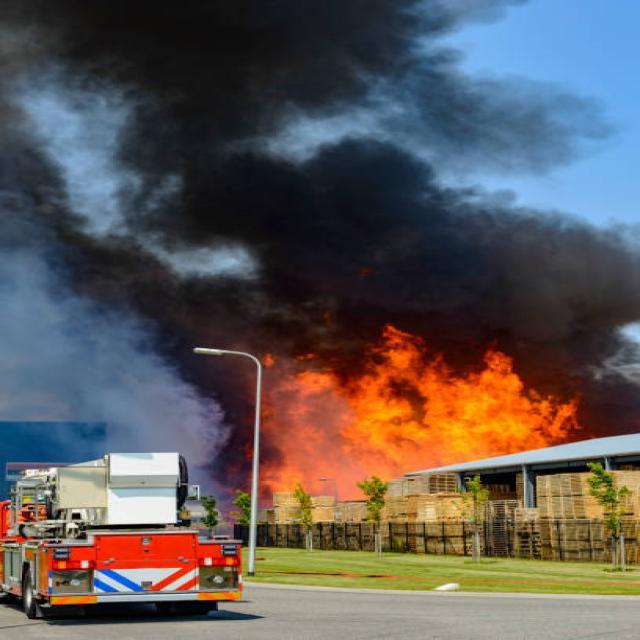Fire: (251, 324, 583, 505)
Smoke: (0, 0, 640, 354), (557, 326, 640, 419)
